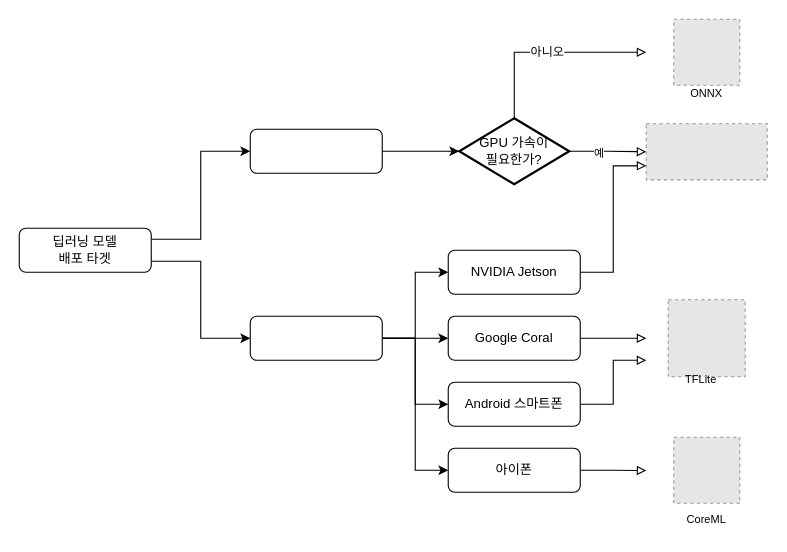
This 787x552 diagram has some shape labels left out. Grey dashed boxes stand in for pictures. Here are the shapes that lost their labels. From the top down, the centre of each, then its label:
At [315,150]: "클라우드".
At [315,337]: "에지".
